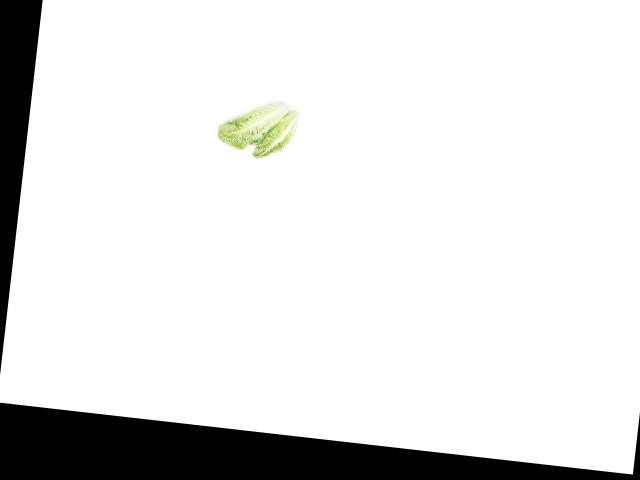lettuce: (215, 91, 285, 156)
